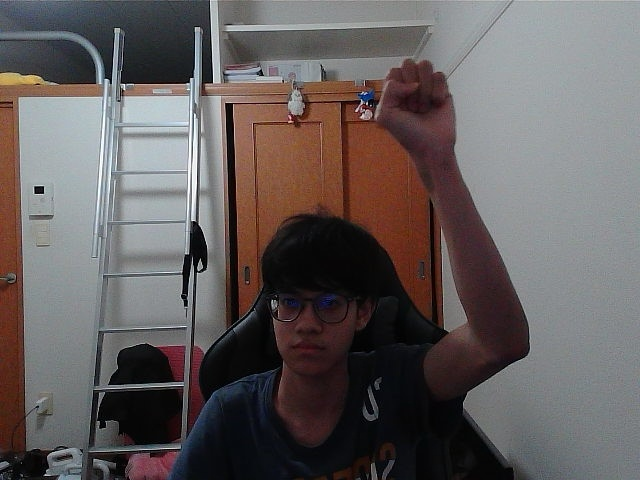closed_palm: (386, 64, 441, 148)
